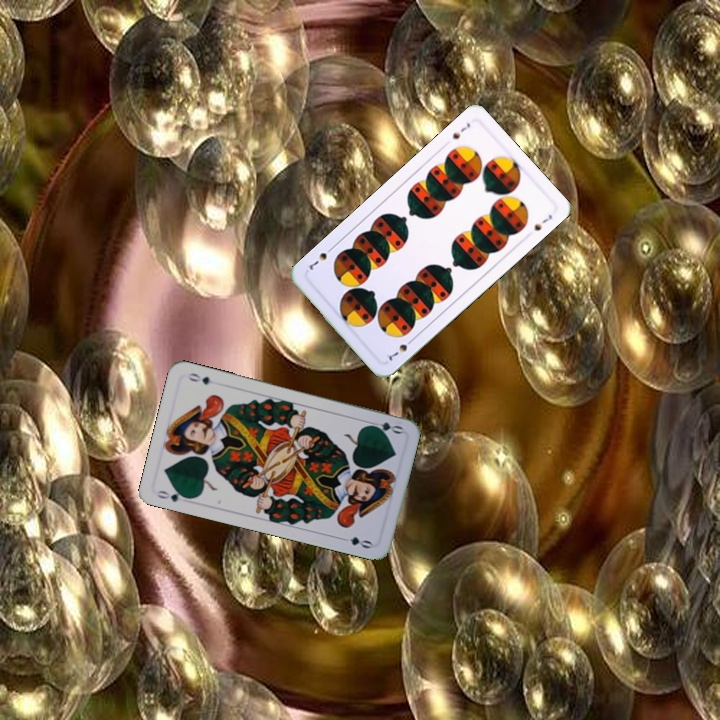GO: (364, 417, 405, 437), (152, 486, 194, 504)
S7: (382, 334, 417, 364), (448, 118, 473, 142)
